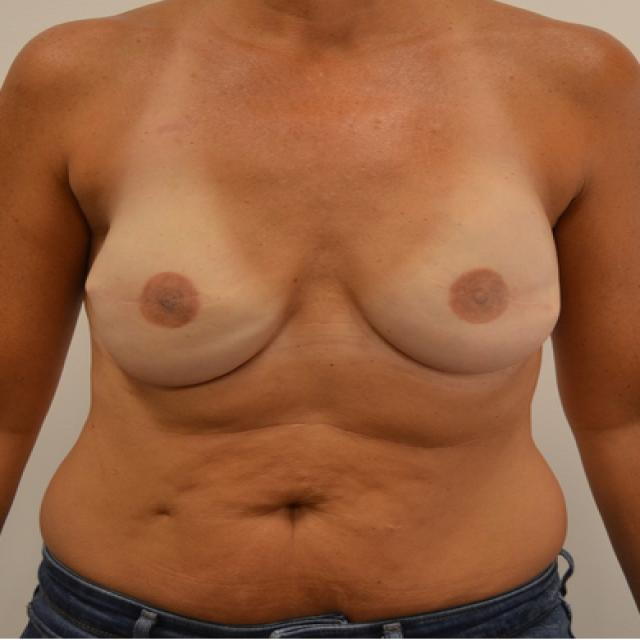Seno ileso: (78, 182, 316, 403), (332, 182, 568, 390)
